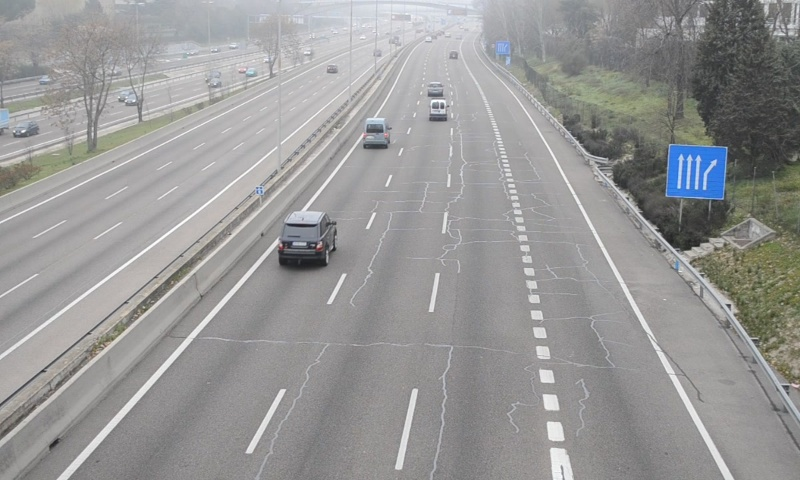car: (278, 212, 336, 258)
van: (362, 117, 389, 147), (429, 98, 448, 120)
